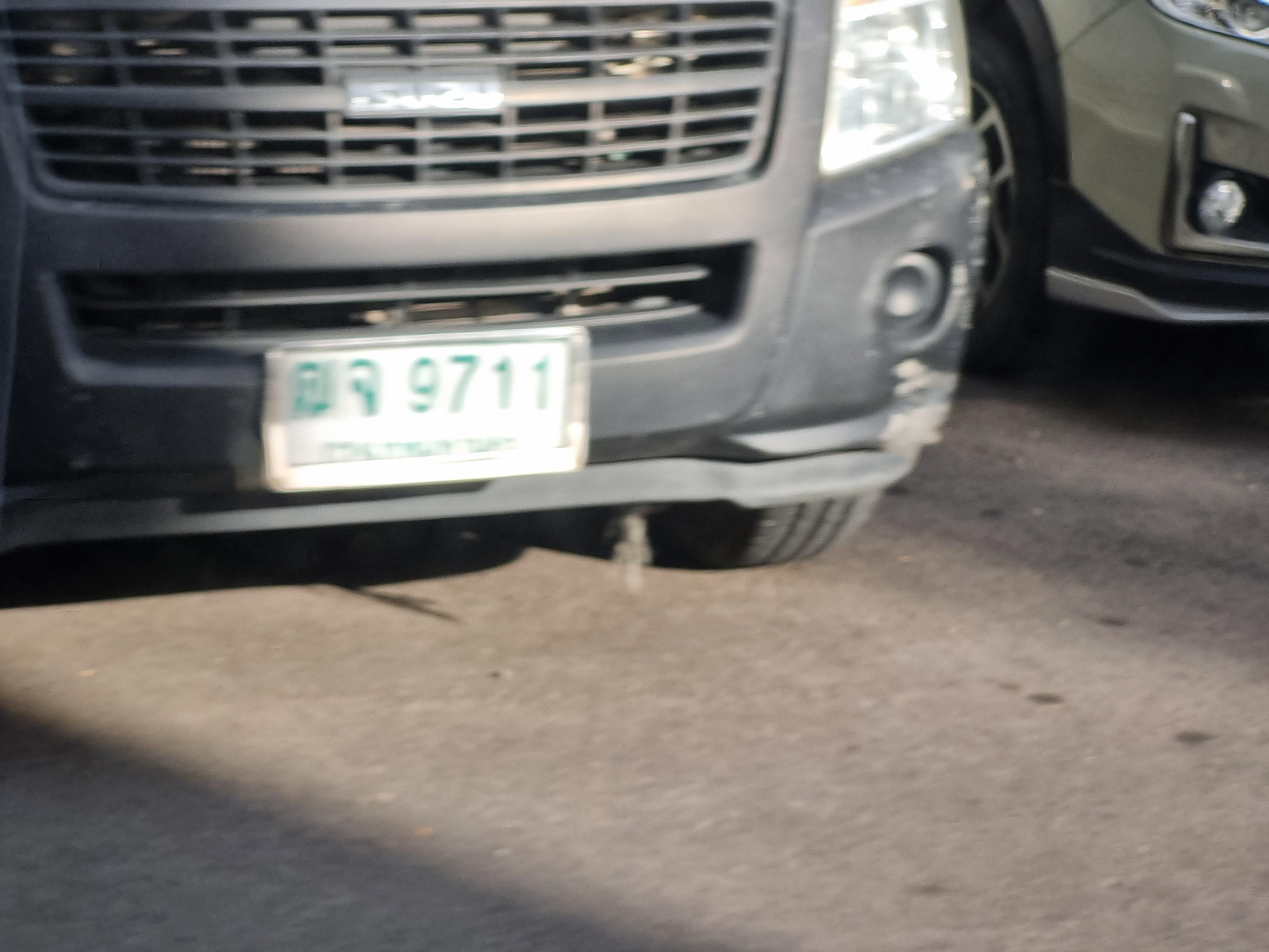license-plate: (257, 314, 602, 507)
